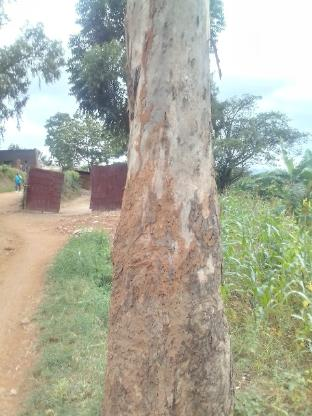tree: (101, 0, 242, 416)
